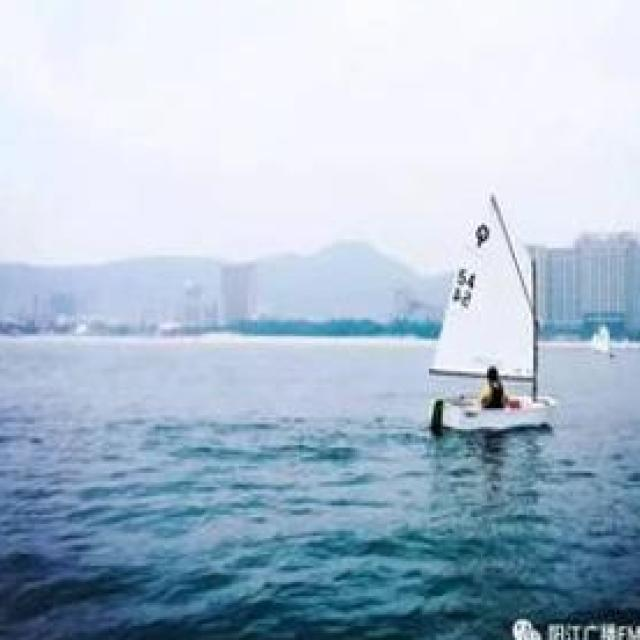sailboat: (415, 182, 562, 441)
